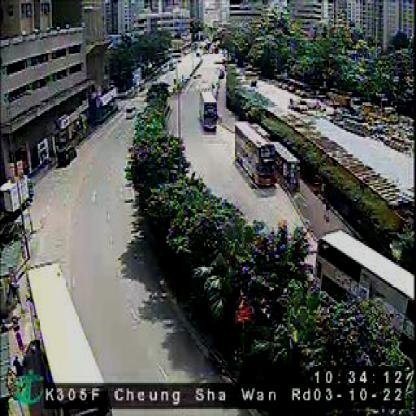Bus: (26, 260, 118, 414), (316, 225, 413, 354), (232, 119, 276, 186), (199, 87, 214, 128)
Car: (126, 104, 134, 118)
